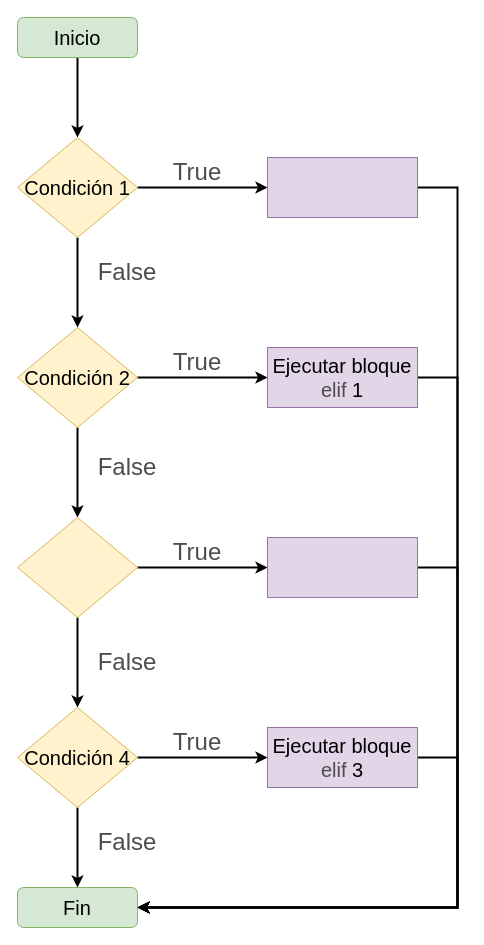
Some shapes in this 484 by 945 pixel diagram are drawn without their labels. The shapes that lost their labels are listed below. From the top down, each one's centre as x and y in pixels, then its label:
At point 342,187: "Ejecutar bloque if".
At point 77,567: "Condición 3".
At point 342,567: "Ejecutar bloque elif 2".
